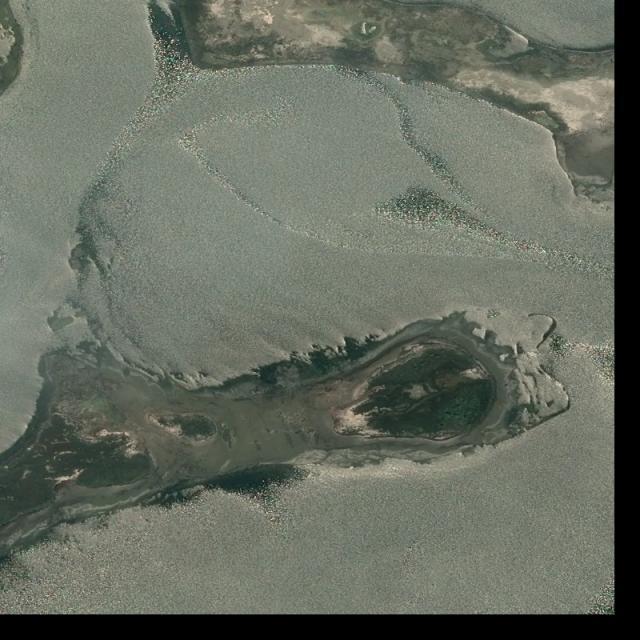ship: (541, 249, 548, 254)
